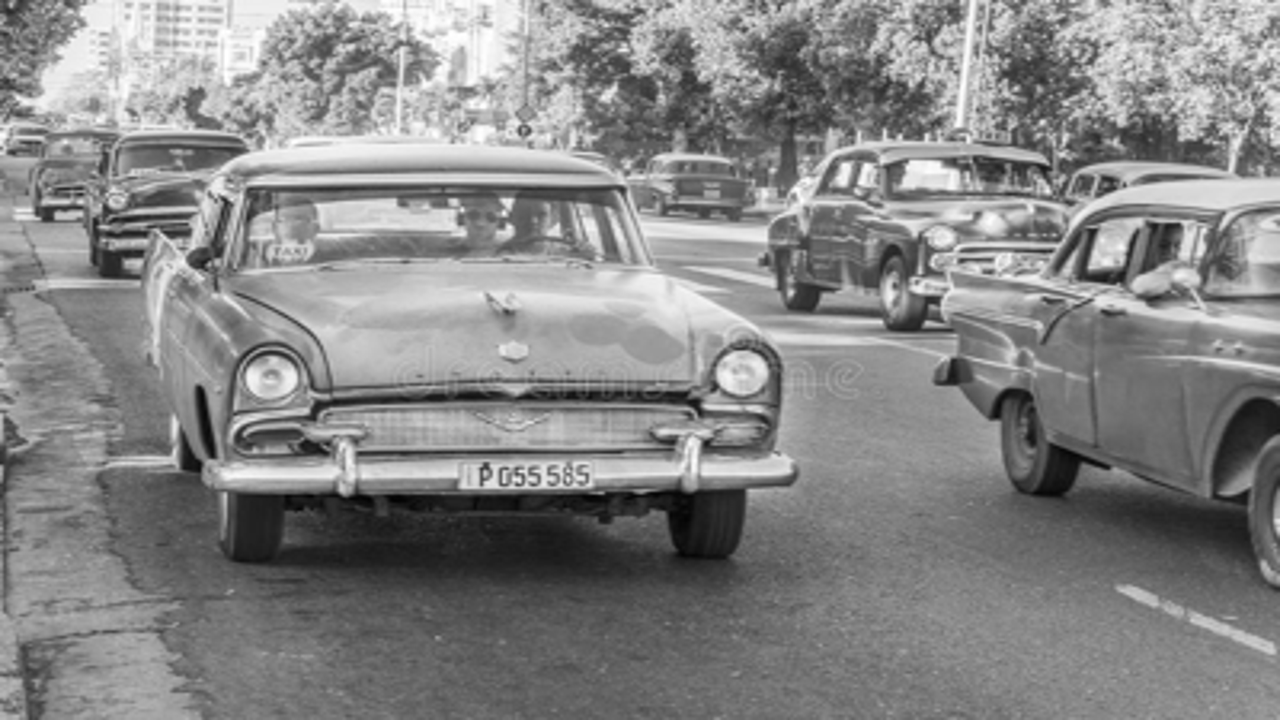license: (456, 457, 598, 499)
